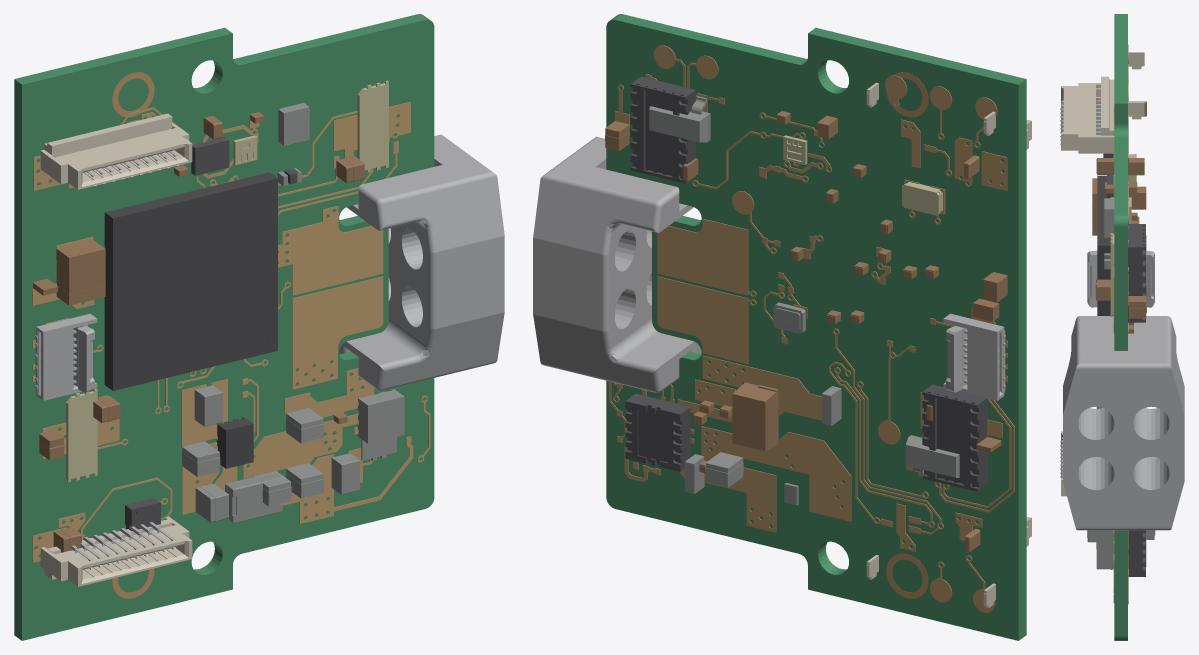
File: assembly.glb
3 renders of one model, left to right at view 1: azimuth 30°, elevation 25°; view 2: azimuth 150°, elevation 25°; view 3: azimuth 270°, elevation 25°, orthographic. The views are drawn at different scales.
Visible parts, largest first — view 1: board, ic_mcu, ic_shield, copper, mechanics, connectors, passives, xtal_led, ic_other, pins, pads; view 2: board, copper, ic_shield, ic_other, passives, mechanics, xtal_led, pads, connectors; view 3: ic_shield, board, connectors, passives, ic_other, mechanics, ic_mcu, copper, xtal_led, pins.
Boxes of the visible parts, <box> form: board: <box>14,14,434,640</box>; ic_mcu: <box>104,172,277,468</box>; ic_shield: <box>35,134,504,400</box>; copper: <box>32,102,430,562</box>; mechanics: <box>182,103,404,523</box>; connectors: <box>40,113,192,586</box>; passives: <box>33,112,364,552</box>; xtal_led: <box>66,80,388,482</box>; ic_other: <box>125,137,298,531</box>; pins: <box>71,151,179,570</box>; pads: <box>112,72,154,598</box>; board: <box>606,14,1026,640</box>; copper: <box>609,45,1014,612</box>; ic_shield: <box>533,136,1005,400</box>; ic_other: <box>625,76,987,491</box>; passives: <box>605,111,1007,552</box>; mechanics: <box>649,96,959,505</box>; xtal_led: <box>783,135,942,215</box>; pads: <box>886,72,928,598</box>; connectors: <box>866,82,1031,608</box>; ic_shield: <box>1063,250,1184,530</box>; board: <box>1114,14,1127,640</box>; connectors: <box>1061,52,1144,496</box>; passives: <box>1092,98,1146,333</box>; ic_other: <box>1103,153,1145,576</box>; mechanics: <box>1087,198,1155,569</box>; ic_mcu: <box>1097,175,1113,315</box>; copper: <box>1113,44,1128,604</box>; xtal_led: <box>1110,154,1136,316</box>; pins: <box>1060,100,1100,477</box>.
Bounding box in the file's own units: 0.0247 × 0.029 × 0.00674.
